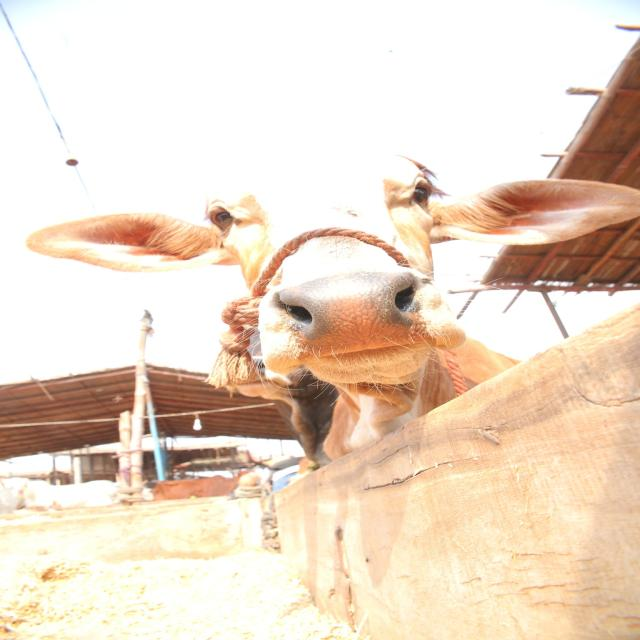muzzles: (254, 266, 449, 362)
